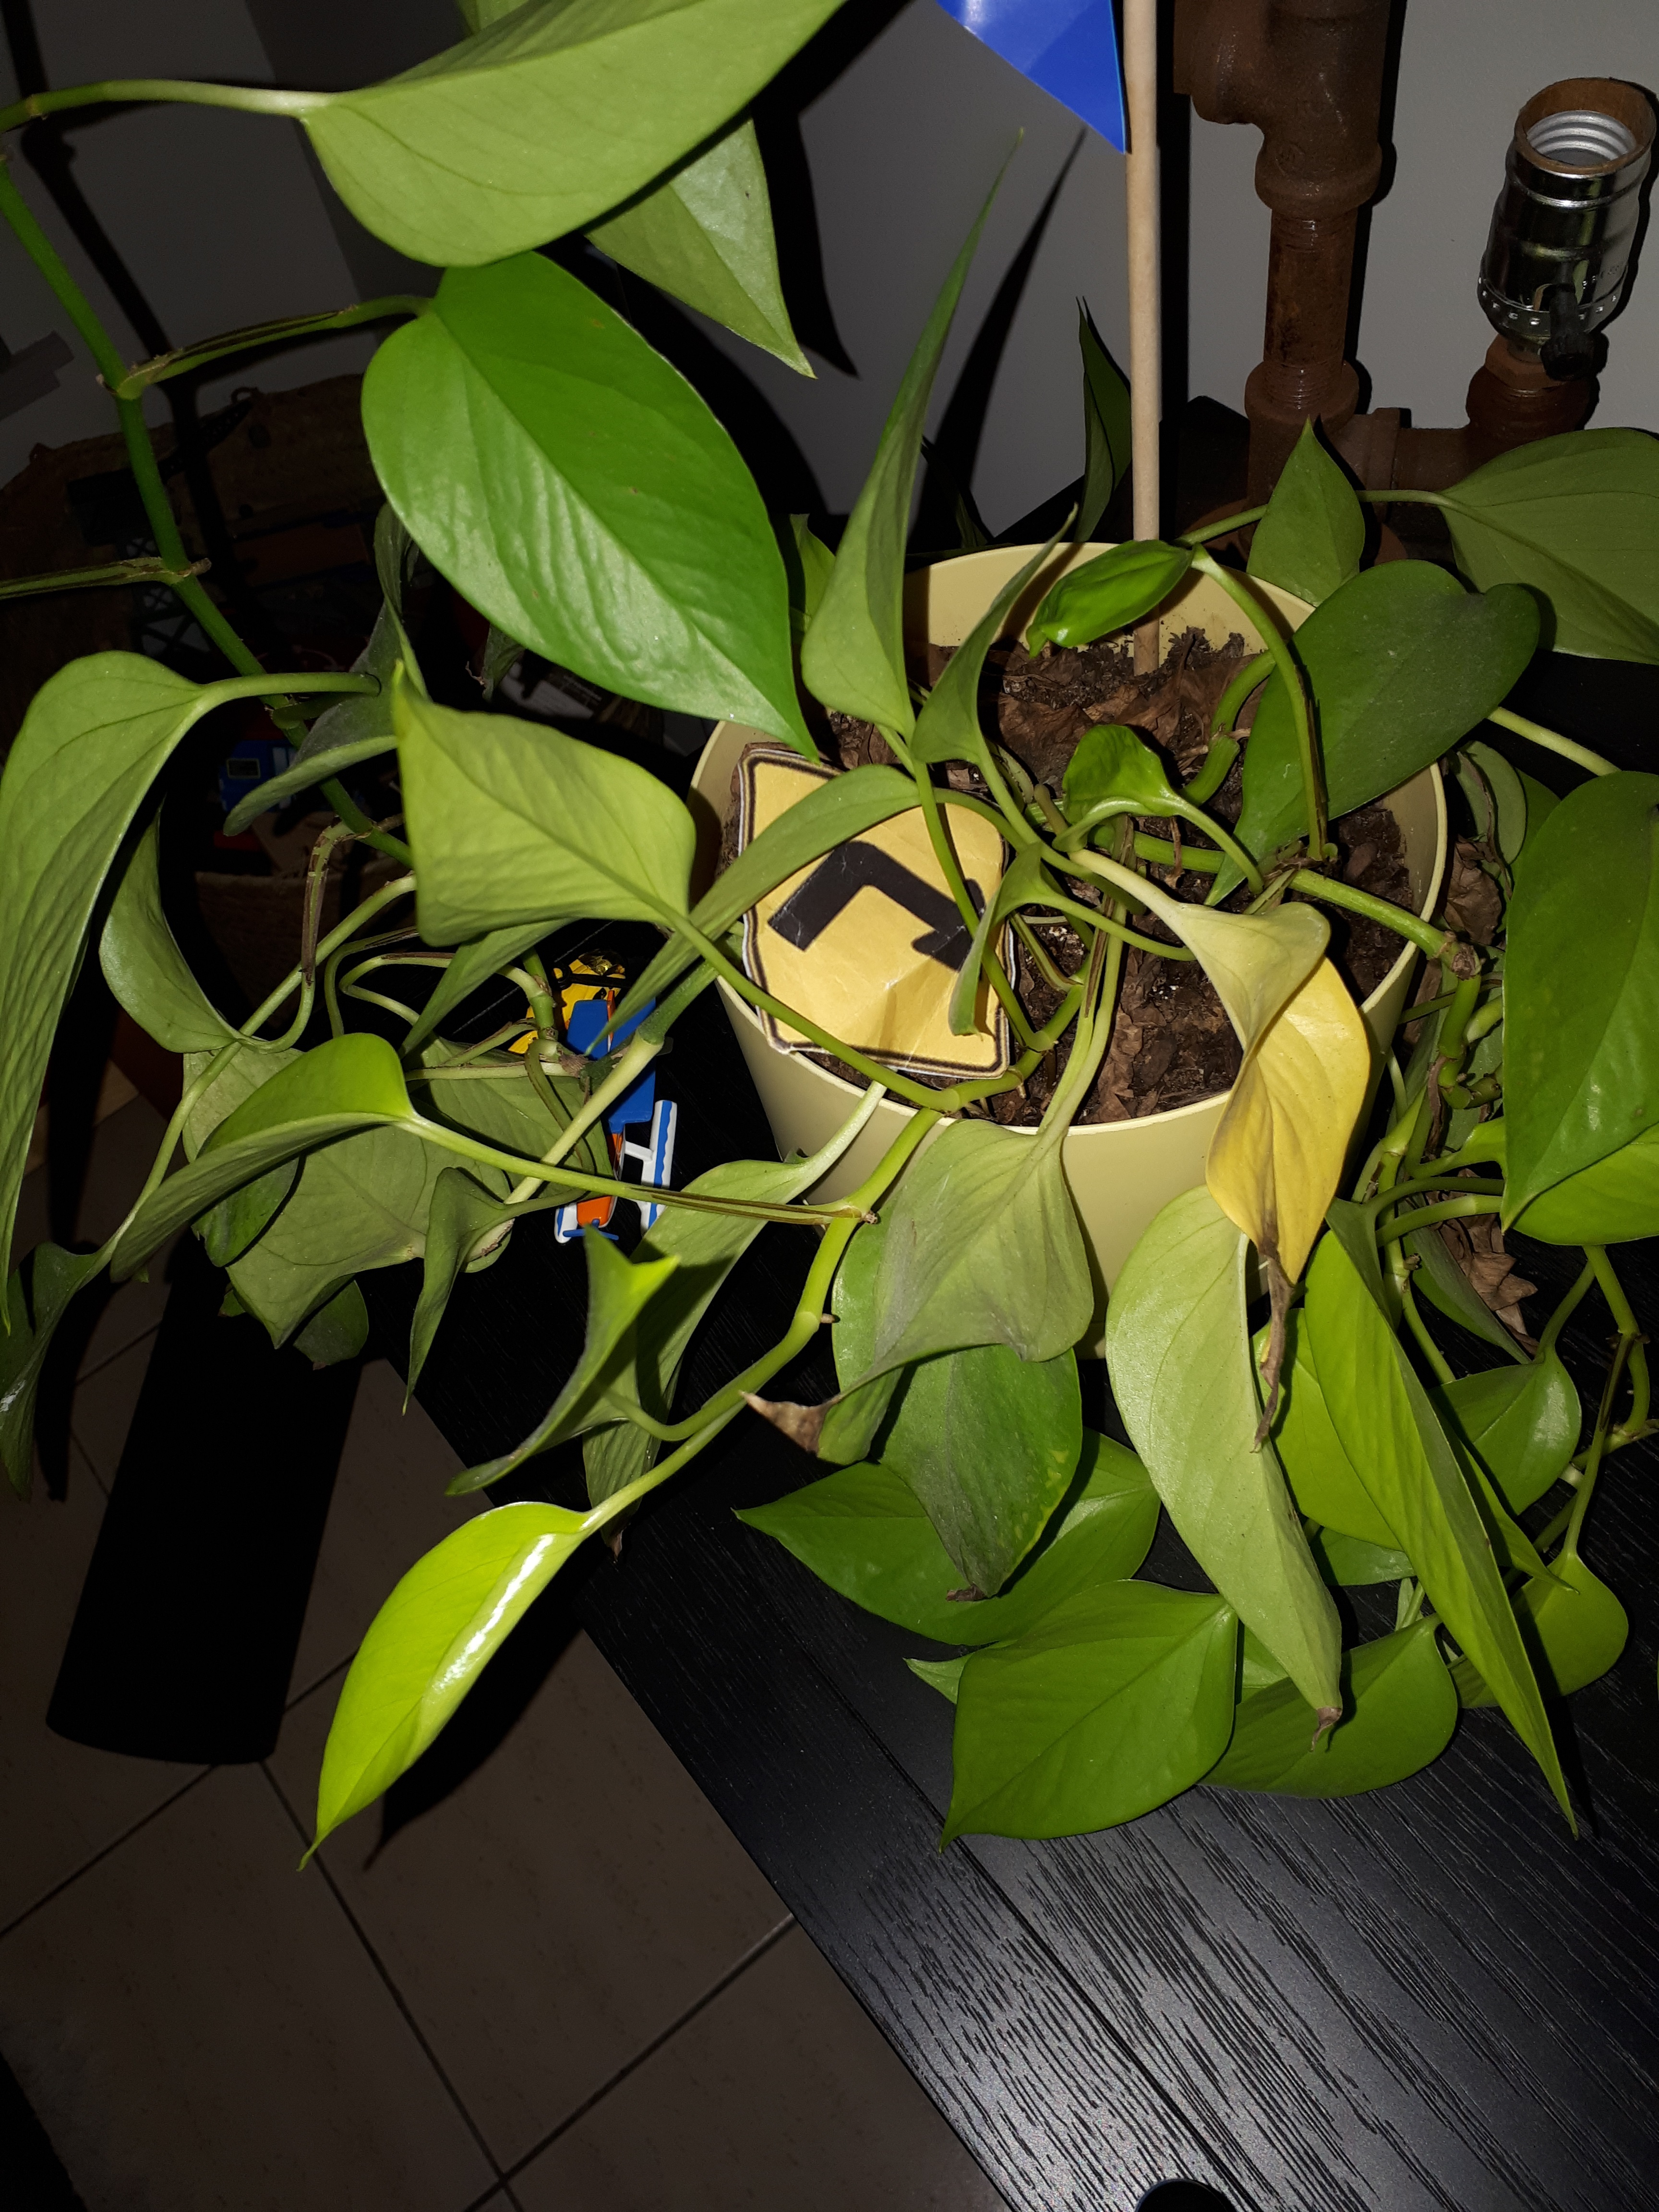right: (727, 714, 1019, 1104), (744, 798, 1033, 1042), (795, 838, 1040, 1049)
